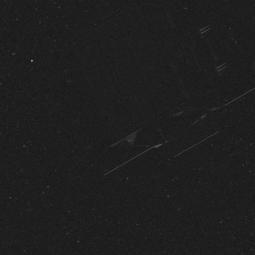proba_2: (96, 31, 243, 178)
